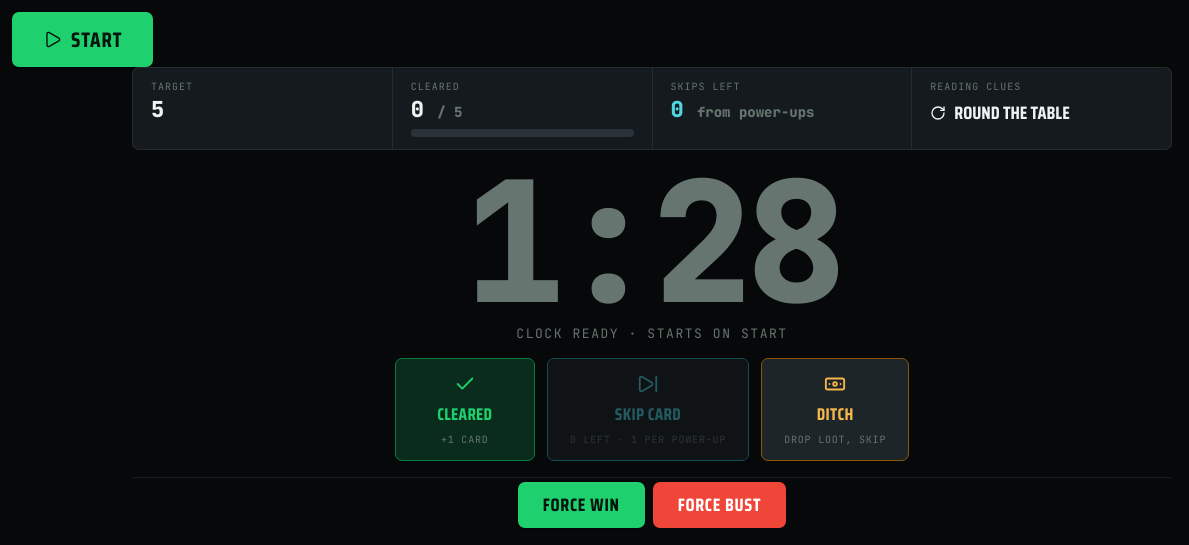
Test case: Getaway round actions › cleared increments cards-cleared display
Step 1. Click the button with test id "btn-cleared" → click(465, 410), box [395, 358, 535, 461]
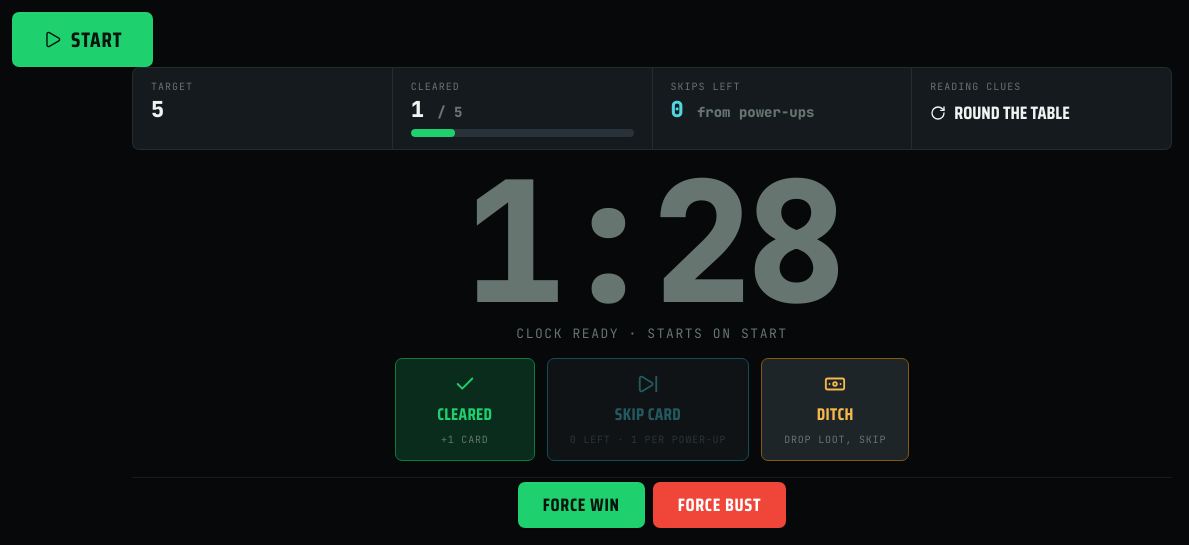
Now the element with test id "cards-cleared" shows "1", box [411, 95, 424, 124]
